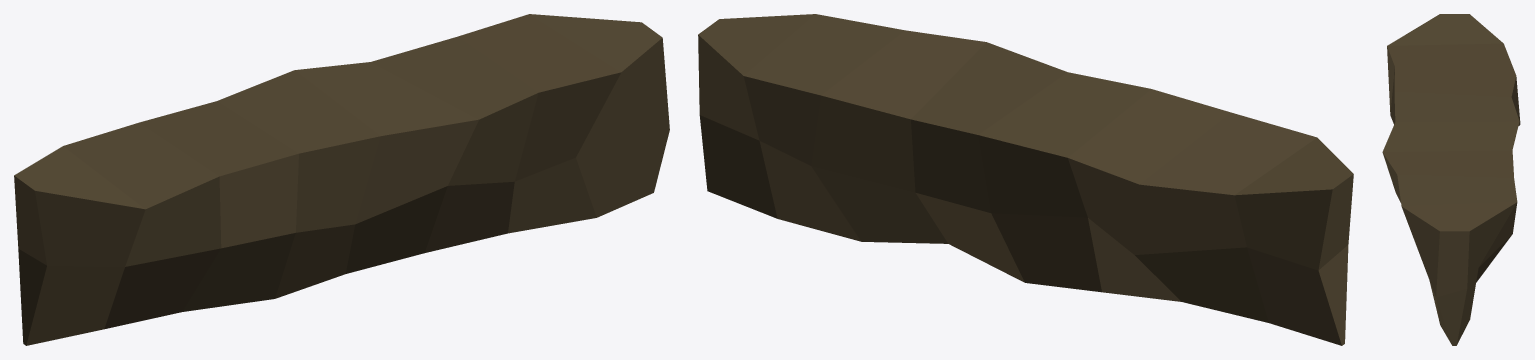
The model's file is Ridge.1.fbx.
3 views of the same model, side by side, from view 1: azimuth 30°, elevation 25°; view 2: azimuth 150°, elevation 25°; view 3: azimuth 270°, elevation 25° (orthographic). The views are drawn at different scales.
Parts seen in each view (by area): view 1: Ridge.1; view 2: Ridge.1; view 3: Ridge.1.
Boxes of the visible parts, bbox=[...] form: Ridge.1: bbox=[14, 14, 669, 345]; Ridge.1: bbox=[698, 14, 1353, 345]; Ridge.1: bbox=[1382, 14, 1520, 345].
Bounding box in the file's own units: 1308 × 346 × 349.
